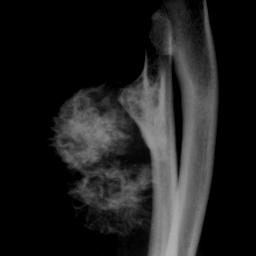cancer: (43, 35, 172, 235)
